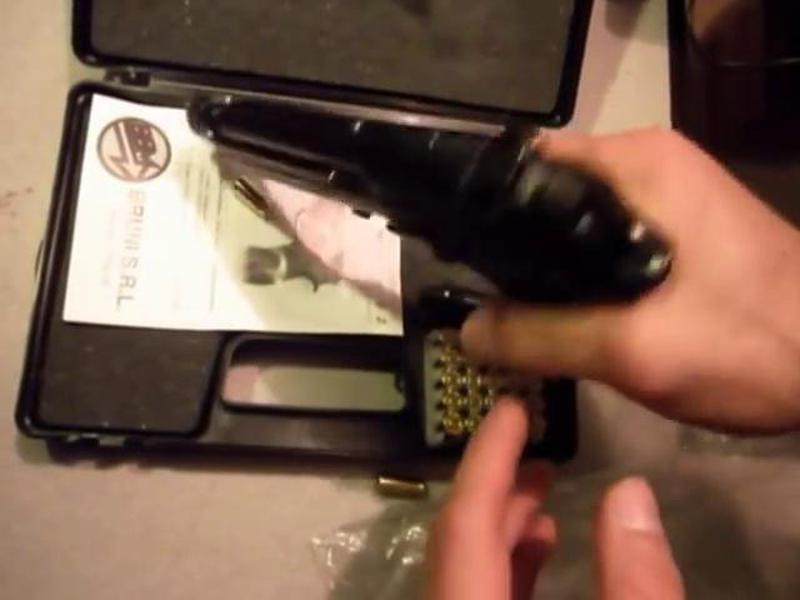Pistola: (165, 55, 723, 371)
